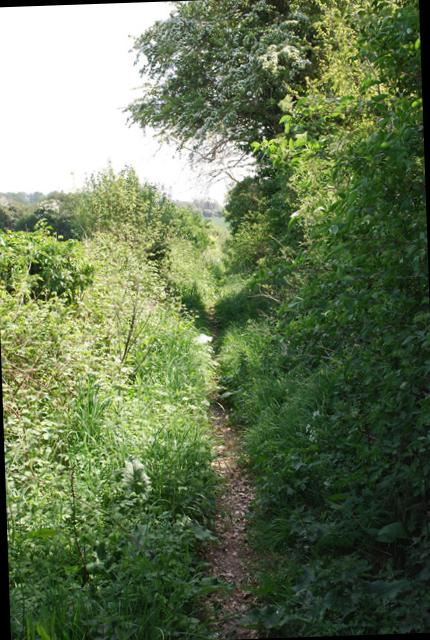overgrown grass: (0, 224, 215, 640), (247, 278, 430, 637), (218, 317, 281, 425)
